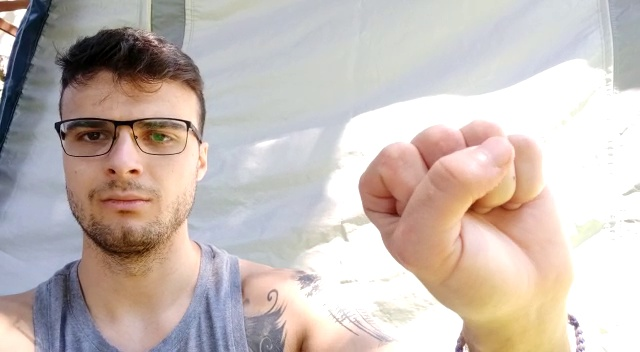Fist: (354, 119, 571, 317)
